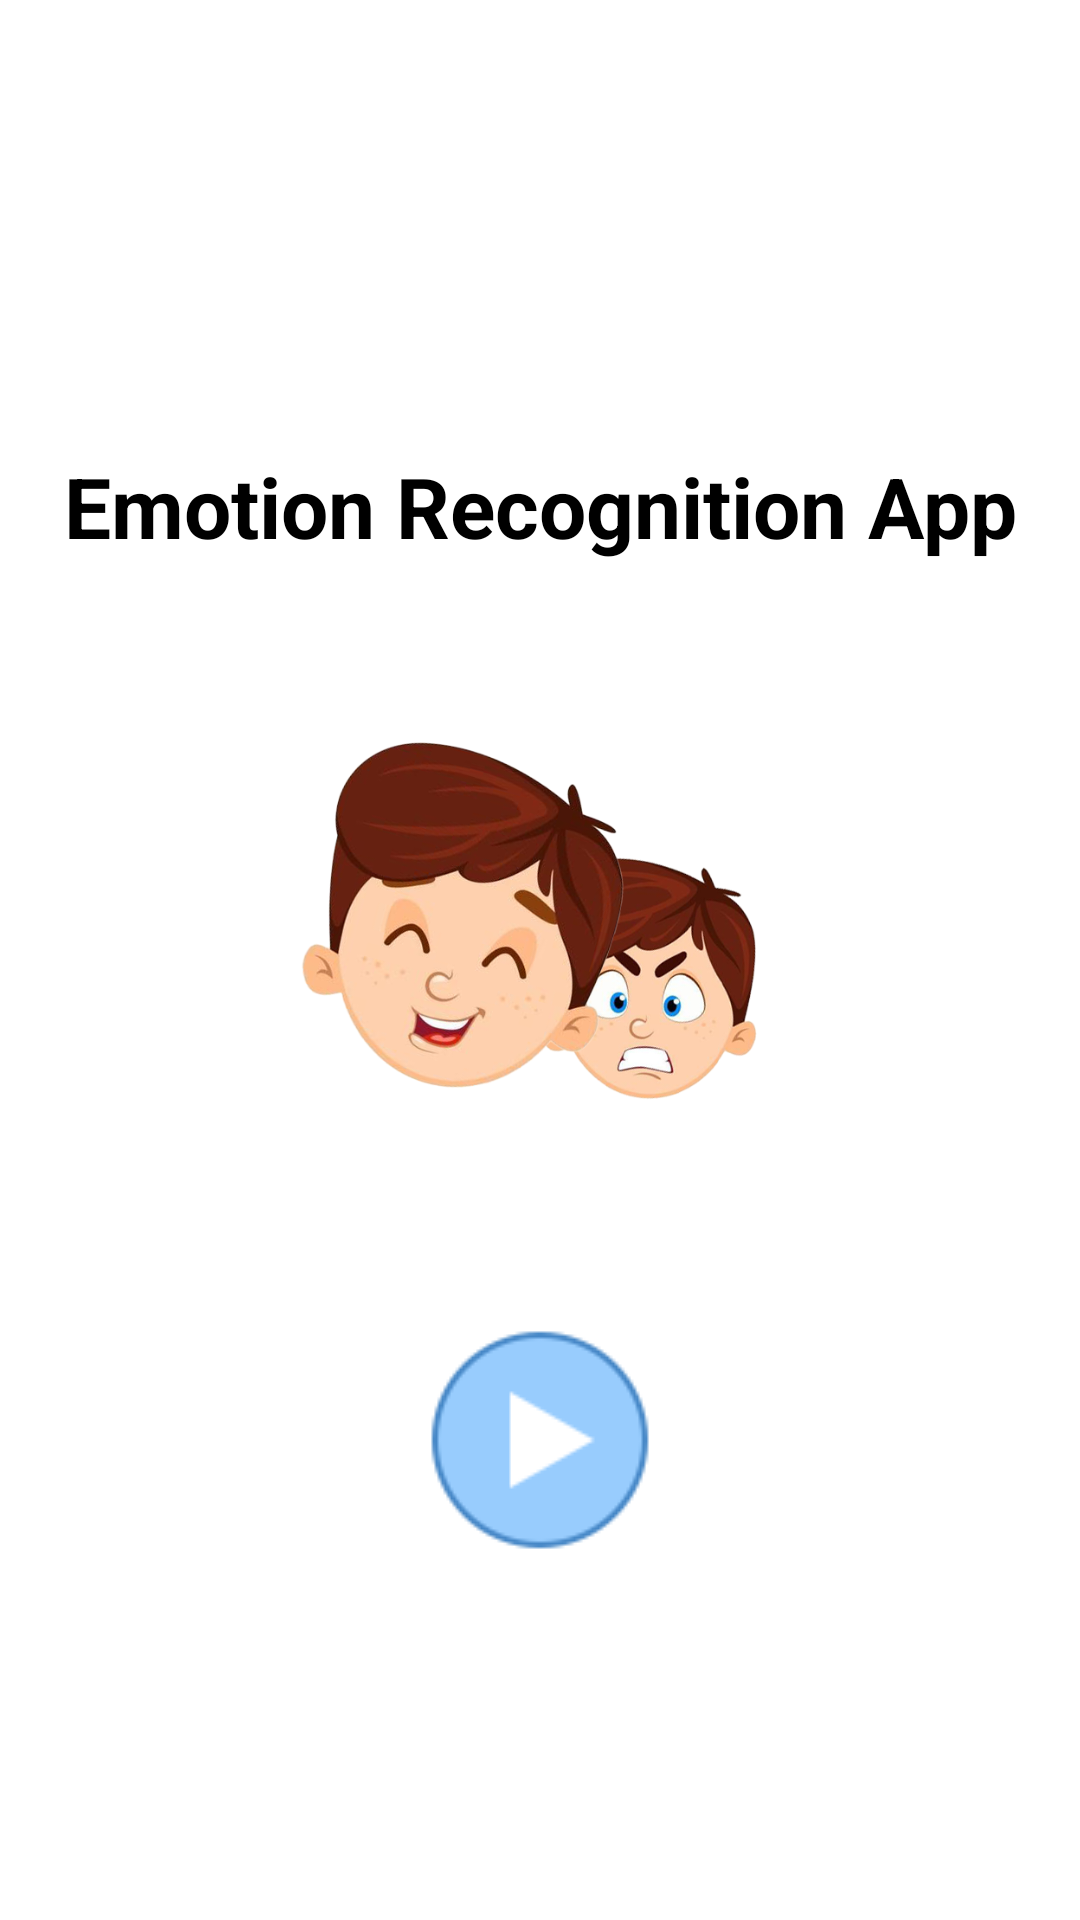

Icons on this 1080px x 1920px Android screen, each with the point to tap as point (x, y):
circled play: point (540, 1440)
